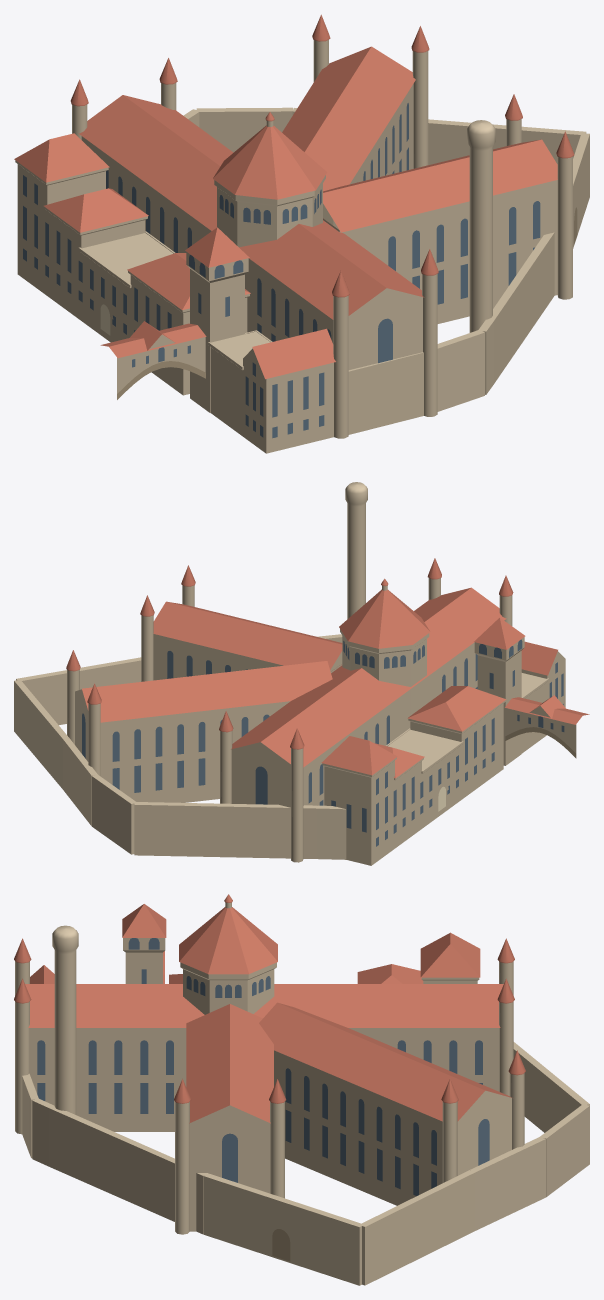
The model's file is pit-old-allegheny-county-jail.glb.
3 renders of one model, top to bottom at view 1: azimuth 30°, elevation 25°; view 2: azimuth 150°, elevation 25°; view 3: azimuth 270°, elevation 25°, orthographic. The views are drawn at different scales.
Visible parts, largest first — view 1: Old Allegheny County Jail; view 2: Old Allegheny County Jail; view 3: Old Allegheny County Jail.
Part boxes in pixels (bbox=[...]): Old Allegheny County Jail: bbox=[14, 14, 589, 453]; Old Allegheny County Jail: bbox=[14, 482, 589, 865]; Old Allegheny County Jail: bbox=[14, 894, 589, 1285].
Size of the model in its own units: 111 by 45.6 by 101.
